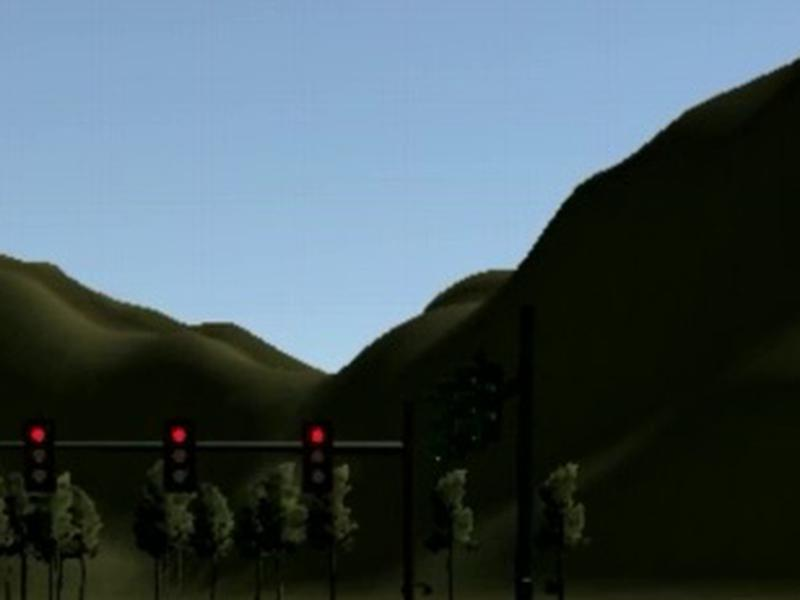Red: (162, 420, 198, 491), (24, 419, 57, 493), (301, 418, 332, 492)
